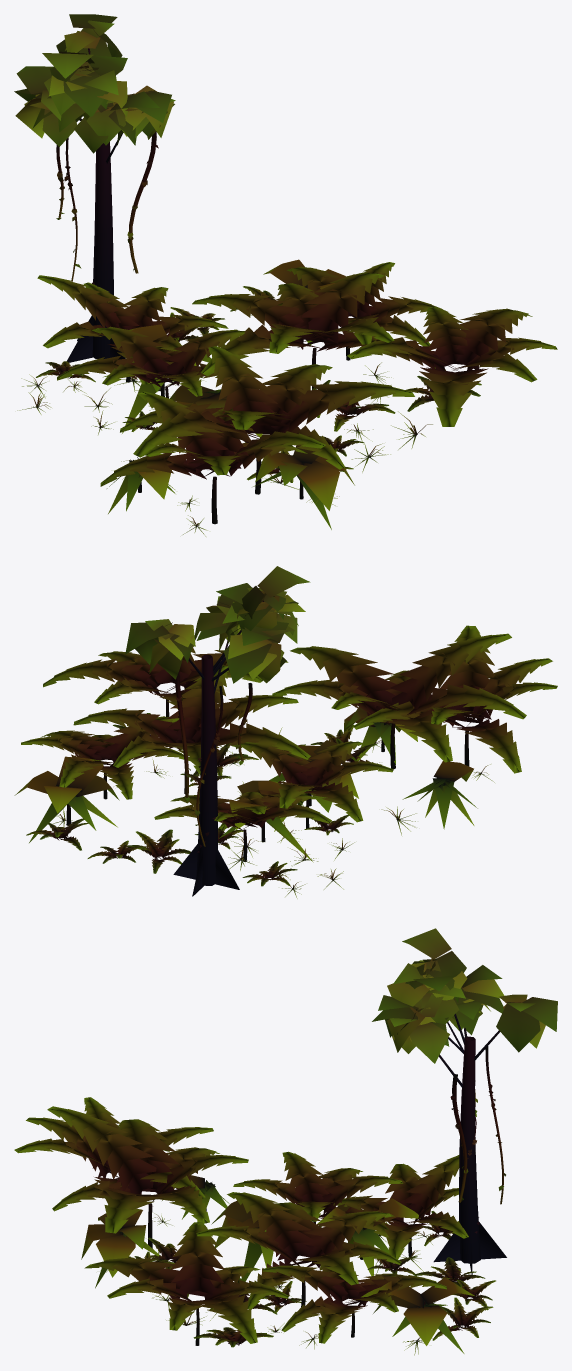
Rendered from patch_palmgrove.glb.
3 renders of one model, top to bottom at view 1: azimuth 30°, elevation 25°; view 2: azimuth 150°, elevation 25°; view 3: azimuth 270°, elevation 25°, orthographic. The views are drawn at different scales.
Parts seen in each view (by area): view 1: patch_palmgrove; view 2: patch_palmgrove; view 3: patch_palmgrove.
Boxes of the visible parts, left/top/right/bottom form: patch_palmgrove: left=14, top=14, right=557, bottom=536; patch_palmgrove: left=14, top=566, right=557, bottom=898; patch_palmgrove: left=14, top=928, right=557, bottom=1355.
Size of the model in its own units: 18.1 by 13 by 20.02.
Materials: 1 (1 with a texture image).
